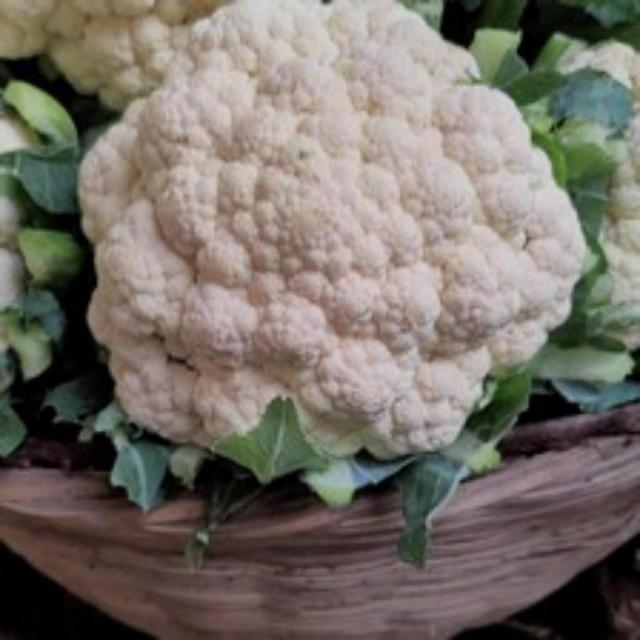cauliflower: (68, 0, 613, 514)
